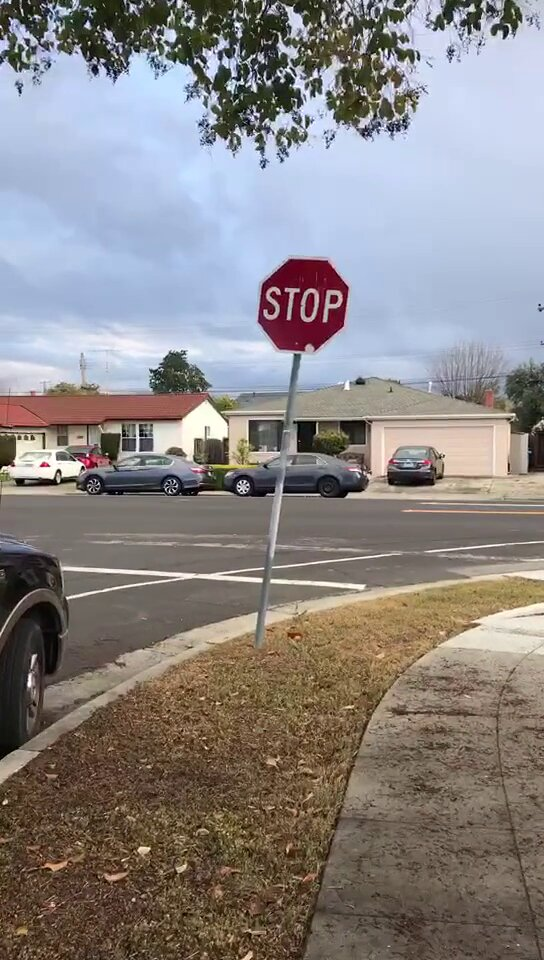stop_sign: (257, 258, 349, 351)
